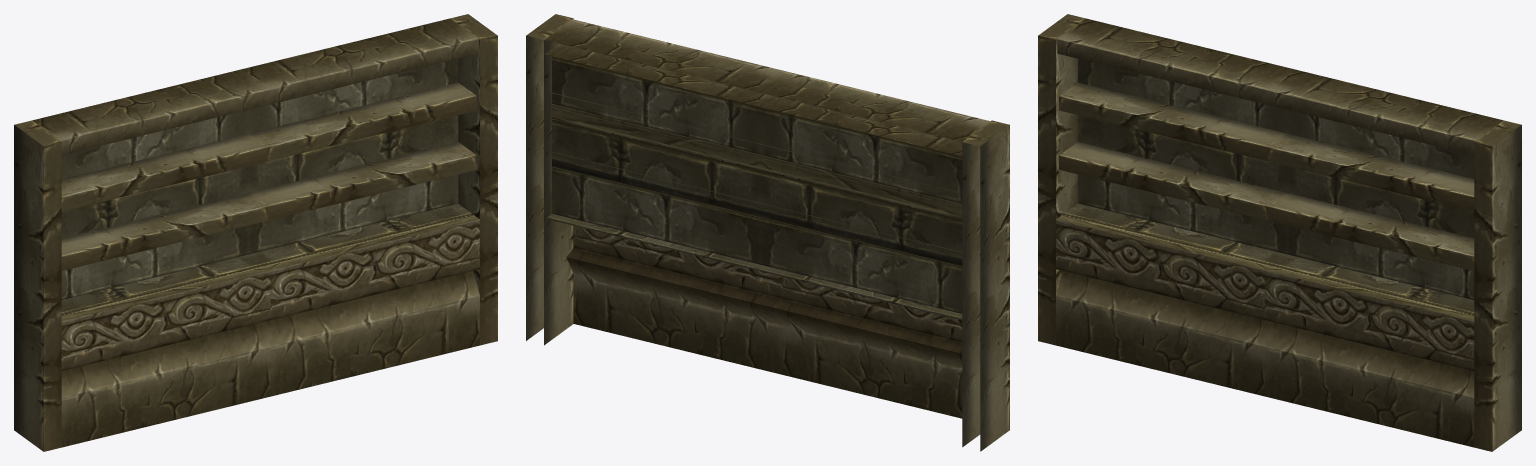
Rendered from F_shujia002.fbx.
3 views of the same model, side by side, from view 1: azimuth 30°, elevation 25°; view 2: azimuth 150°, elevation 25°; view 3: azimuth 330°, elevation 25° (orthographic).
Visible parts, largest first — view 1: F_shujia002; view 2: F_shujia002; view 3: F_shujia002.
Boxes of the visible parts, left/top/right/bottom form: F_shujia002: left=14, top=14, right=497, bottom=451; F_shujia002: left=526, top=14, right=1009, bottom=451; F_shujia002: left=1038, top=14, right=1521, bottom=451.
Bounding box in the file's own units: 355 × 228 × 40.09.
